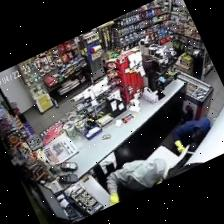person: (107, 159, 166, 205), (172, 117, 210, 152)
